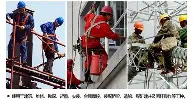safety belt: (81, 17, 102, 43), (43, 24, 59, 58), (14, 14, 29, 41)
